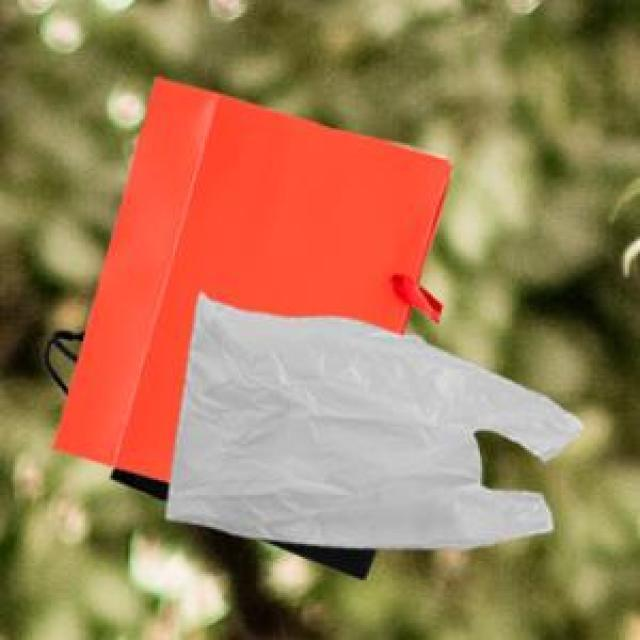paper: (49, 75, 448, 478), (41, 326, 372, 576)
